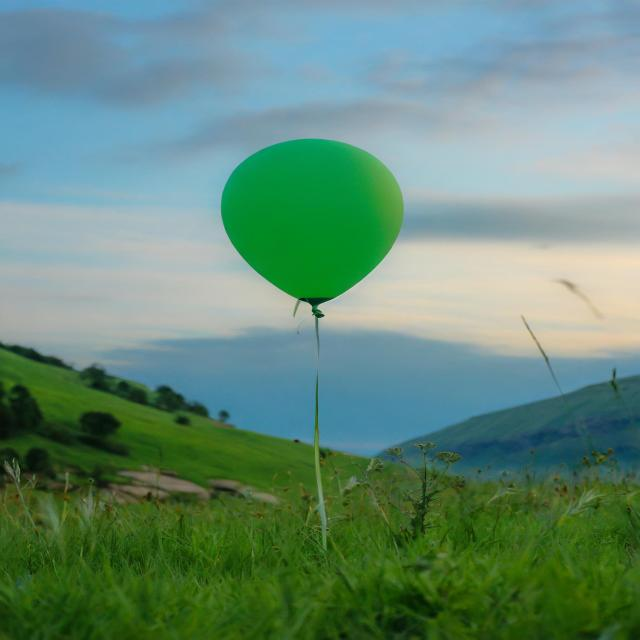green: (223, 140, 405, 319)
